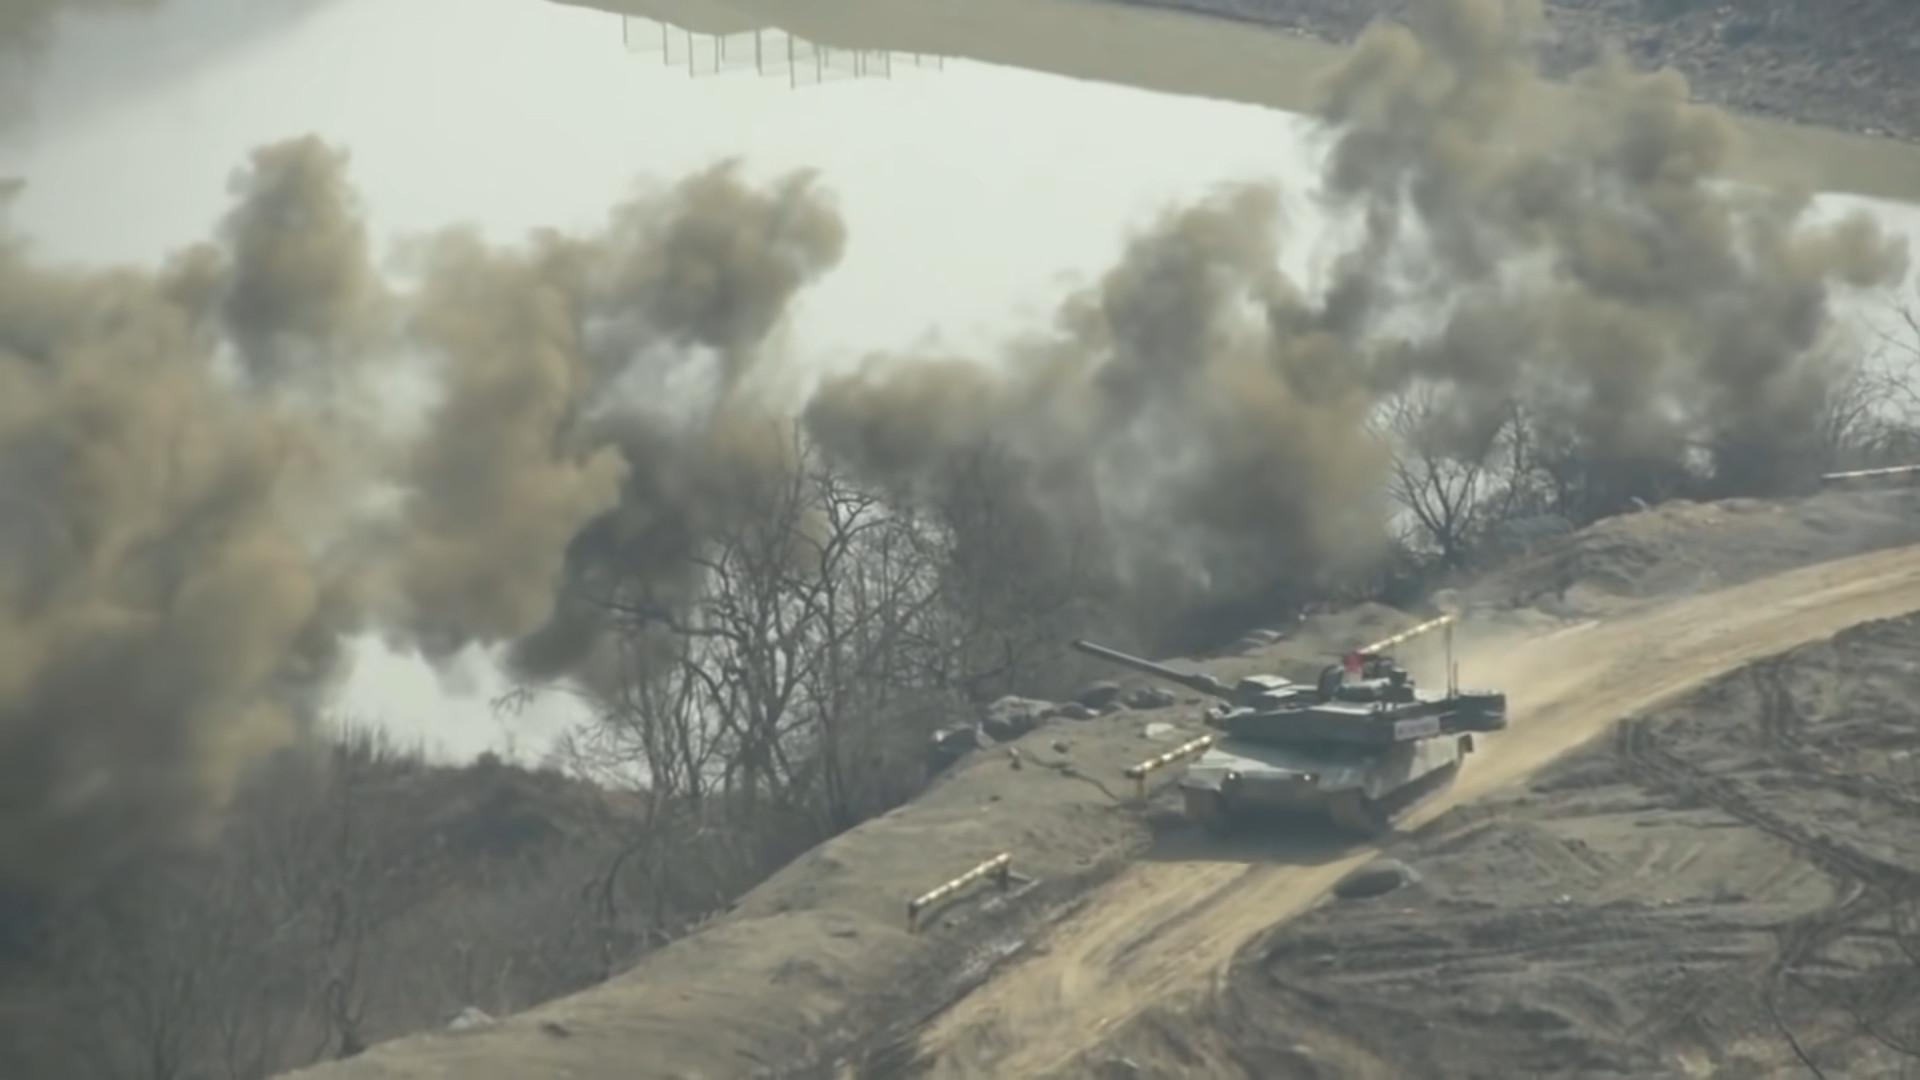tank: (1072, 640, 1507, 839)
